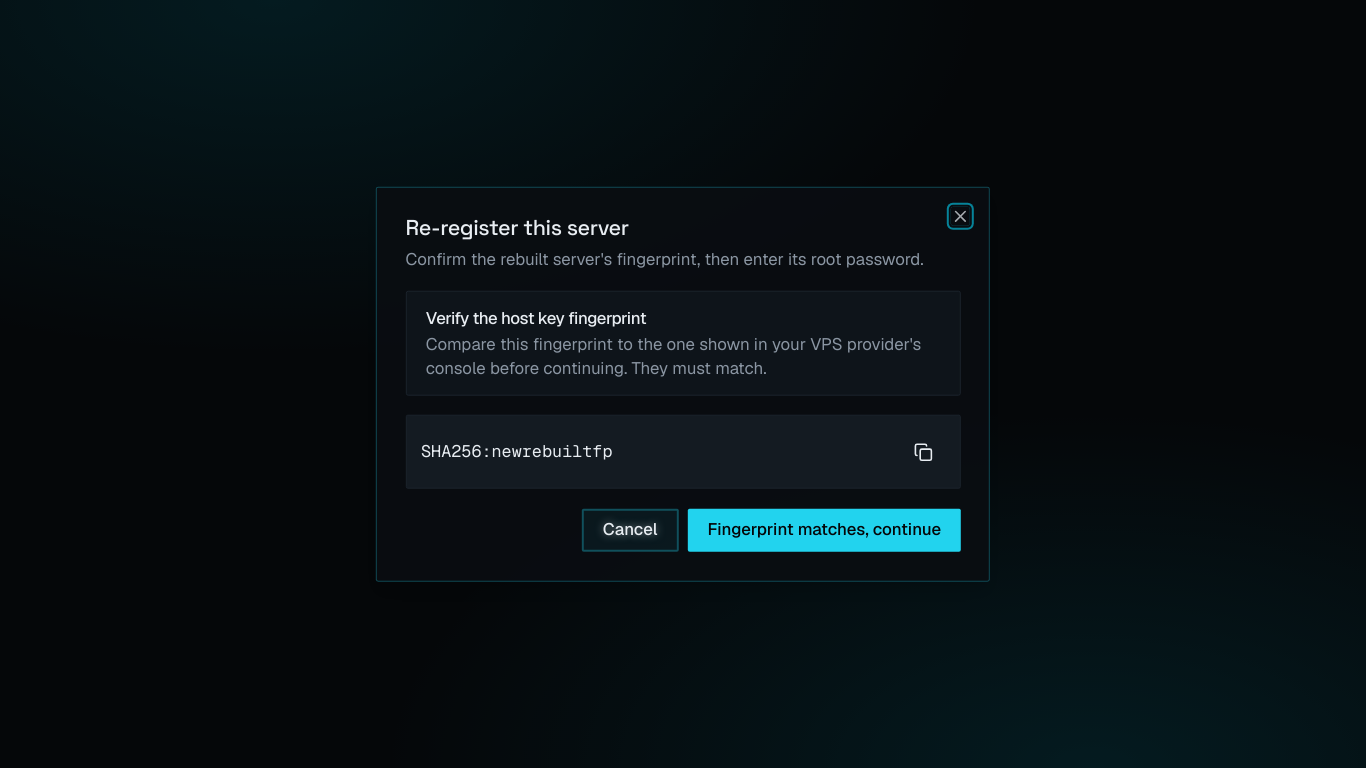
Test case: ReregisterDialog › probes on open, shows the new fingerprint, and gates submit on the password
Expected: the text "SHA256:newrebuiltfp" is shown, [421,440,612,462]
Expected: the button named "copy fingerprint" is shown, [902,431,945,474]
# the single password field gates the submit.
Click the button "Fingerprint matches, continue": (824, 530) [688,508,960,552]
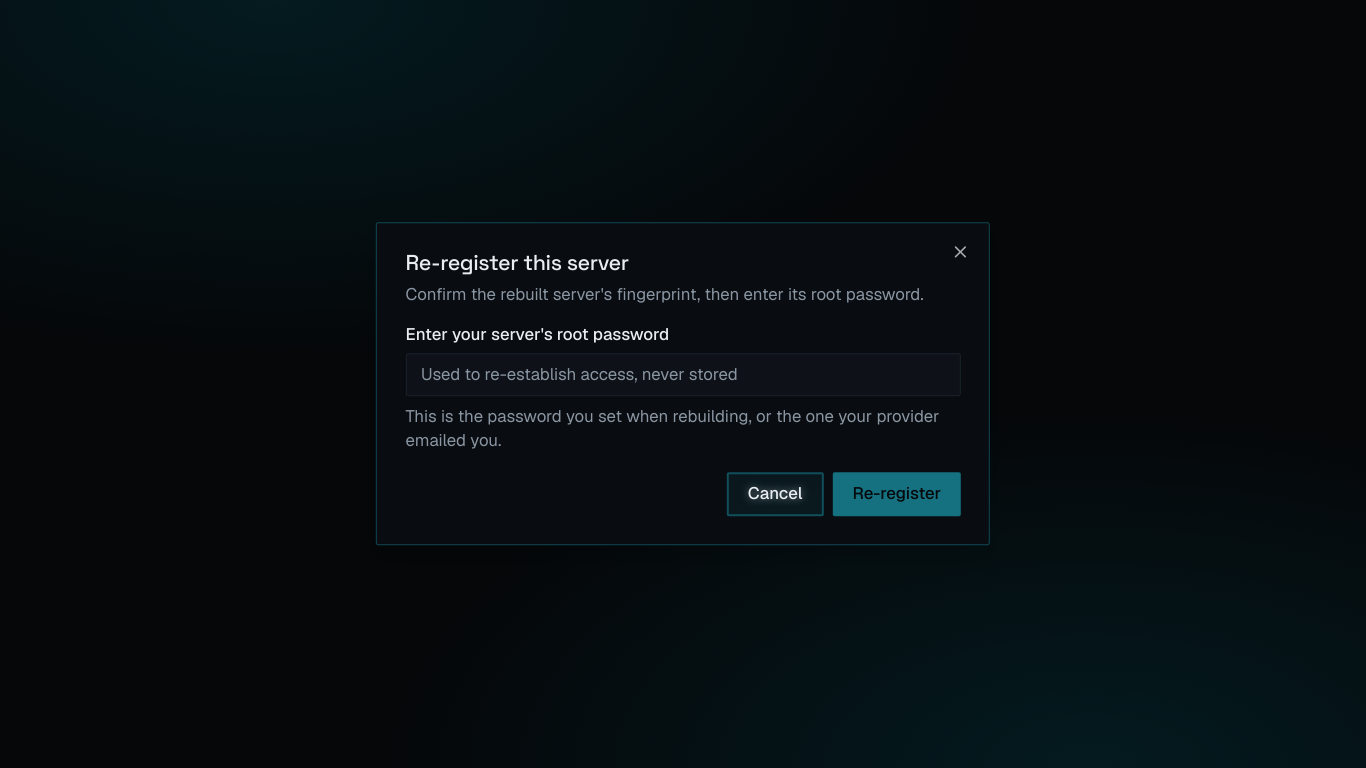
Result: the password field labelled "Enter your server's root password" is empty
Result: the button "Re-register" is disabled at [833,473,960,516]
In the password field labelled "Enter your server's root password": (683, 374) [406,353,960,396], type "provider-pw"
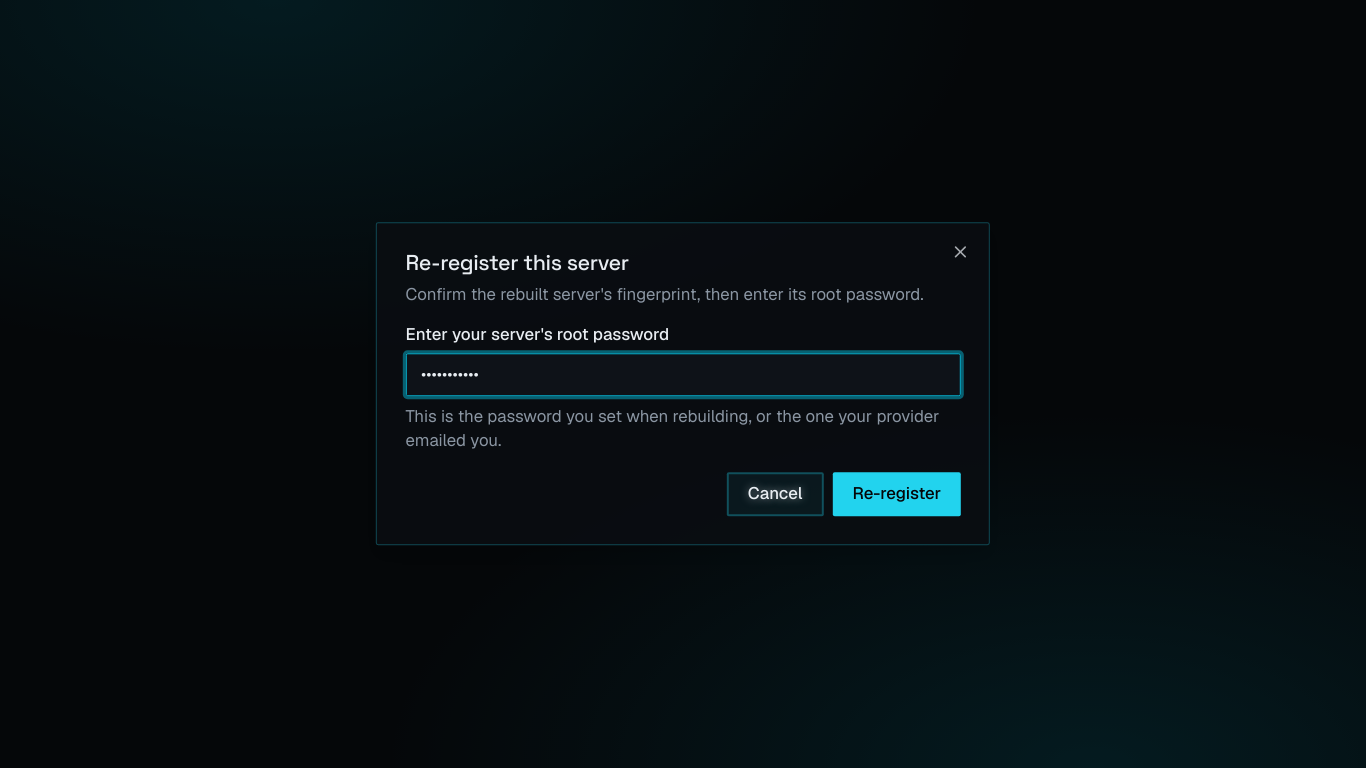
Result: the button "Re-register" is enabled at [833,473,960,516]
